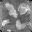people: (18, 3, 29, 15), (4, 2, 15, 13), (16, 19, 26, 30), (8, 9, 18, 18), (2, 19, 11, 26)
